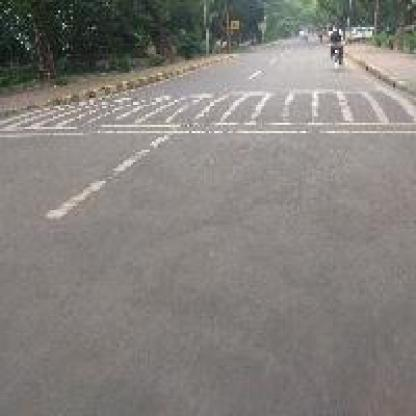Speed Bump: (2, 92, 399, 135)
